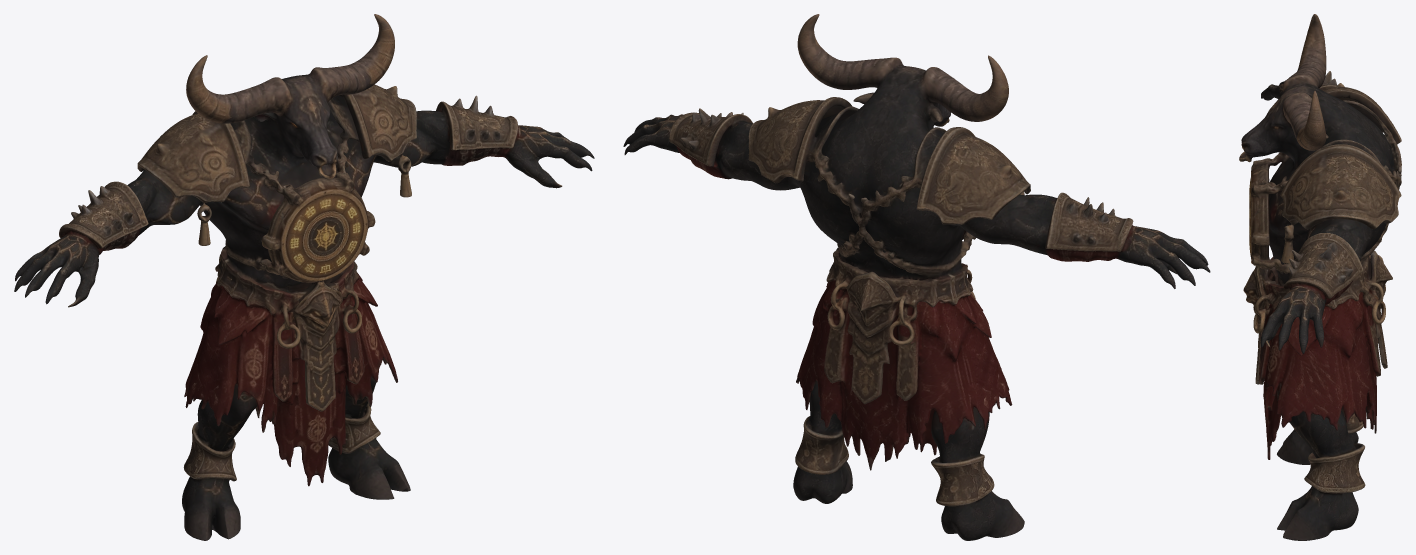
File: Meshy_AI_Runebound_Minotaur_Warlord_20261025_texture.fbx
3 views of the same model, side by side, from view 1: azimuth 30°, elevation 25°; view 2: azimuth 150°, elevation 25°; view 3: azimuth 270°, elevation 25° (orthographic). The views are drawn at different scales.
Visible parts, largest first — view 1: Mesh_0; view 2: Mesh_0; view 3: Mesh_0.
Boxes of the visible parts, bbox=[...] form: Mesh_0: bbox=[14, 14, 594, 540]; Mesh_0: bbox=[623, 14, 1210, 540]; Mesh_0: bbox=[1239, 14, 1401, 540].
Size of the model in its own units: 190 by 150 by 50.28.
1 material, 1 textured.
